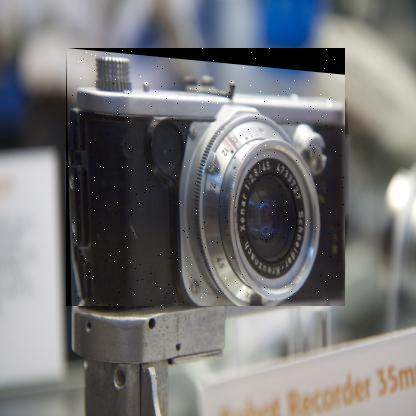Camera: (67, 49, 347, 308)
